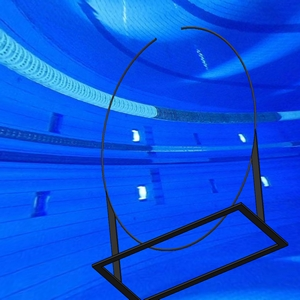circle: (91, 25, 289, 299)
